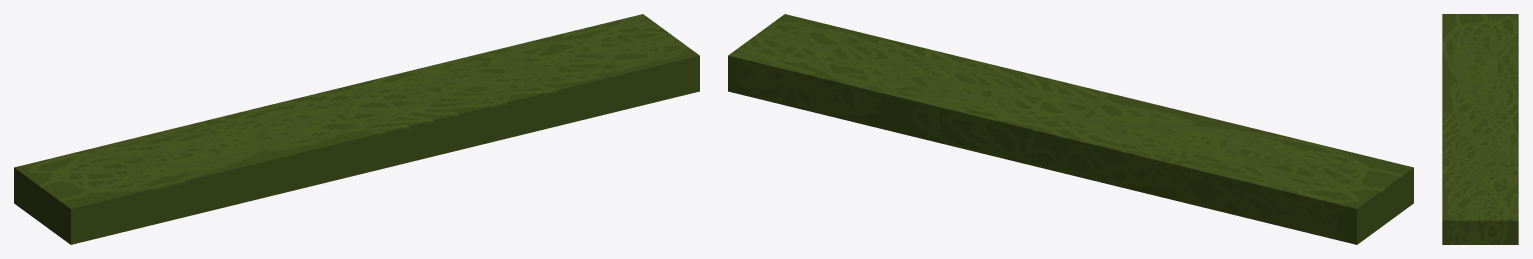
The model's file is Edge.obj.
3 renders of one model, left to right at view 1: azimuth 30°, elevation 25°; view 2: azimuth 150°, elevation 25°; view 3: azimuth 270°, elevation 25°, orthographic. The views are drawn at different scales.
Size of the model in its own units: 25.6 by 1.4 by 4.
Materials: 1 (1 with a texture image).
